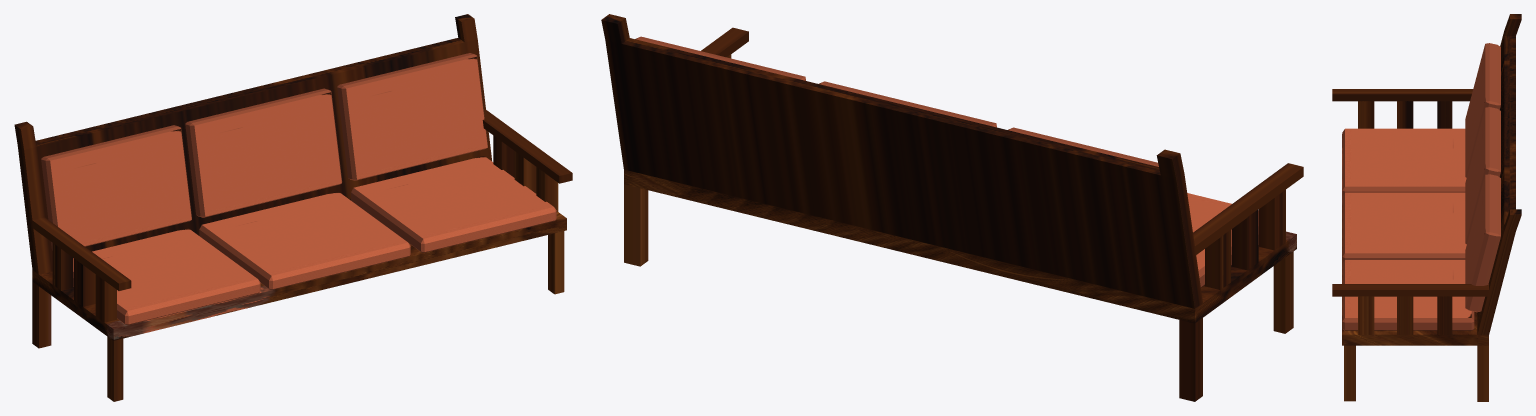
File: Sillon.fbx
3 renders of one model, left to right at view 1: azimuth 30°, elevation 25°; view 2: azimuth 150°, elevation 25°; view 3: azimuth 270°, elevation 25°, orthographic. The views are drawn at different scales.
Visible parts, largest first — view 1: pCube1, pCube6, pCube5, pCube7, pCube3, pCube4, pCube2; view 2: pCube1, pCube2, pCube6, pCube5, pCube7; view 3: pCube1, pCube3, pCube2, pCube4, pCube5, pCube6, pCube7.
Part boxes in pixels (x1,y1,x2,y2): pCube1: (14,14,572,401); pCube6: (185,88,342,217); pCube5: (337,53,487,180); pCube7: (41,125,191,250); pCube3: (199,191,410,289); pCube4: (351,156,556,252); pCube2: (73,228,260,324); pCube1: (601,14,1303,401); pCube2: (1187,193,1258,287); pCube6: (819,81,996,127); pCube5: (635,36,805,80); pCube7: (1008,127,1158,166); pCube1: (1332,14,1521,401); pCube3: (1342,192,1466,263); pCube2: (1342,128,1466,195); pCube4: (1342,260,1474,330); pCube5: (1465,174,1500,312); pCube6: (1465,107,1500,244); pCube7: (1465,43,1500,177).
Bounding box in the file's own units: 1.84 × 0.7966 × 0.7318.
1 material, 1 textured.
